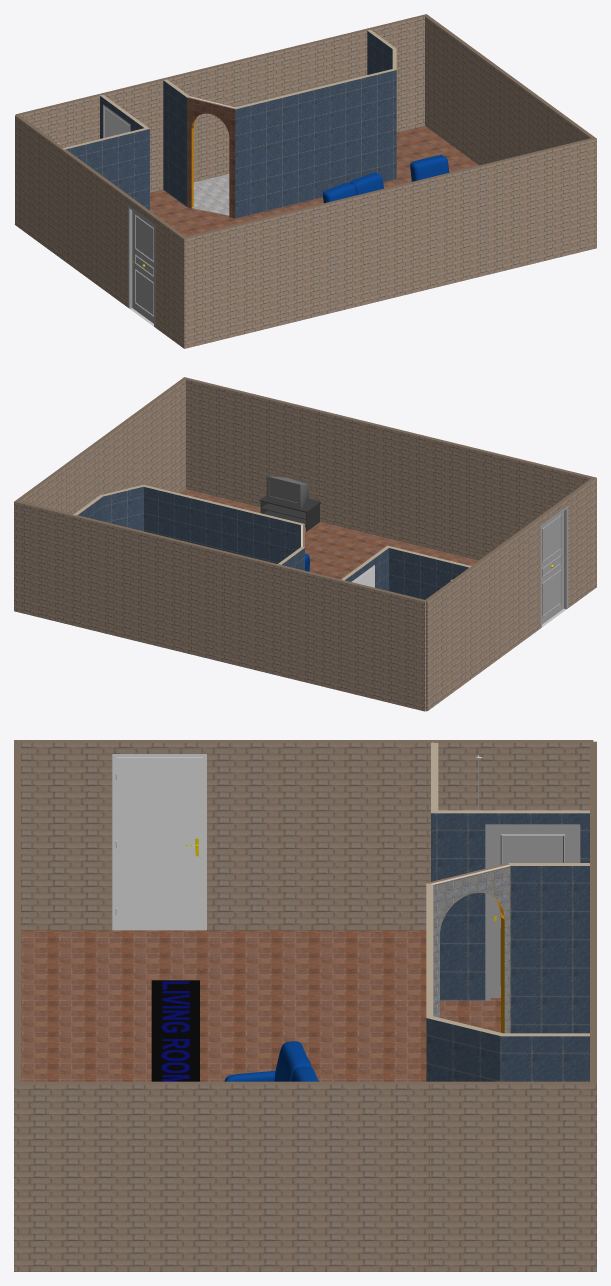
3 views of the same model, one above another, from view 1: azimuth 30°, elevation 25°; view 2: azimuth 150°, elevation 25°; view 3: azimuth 270°, elevation 25° (orthographic). The views are drawn at different scales.
Visible parts, largest first — view 1: wall_4_22, wall_1_5, wall_10_59, wall_5_28, wall_3_17, wall_2_11, room_13_74, wall_7_40, wall_8_46, sweethome3d_opening_on_hinge_1_doorOutside_104, wall_9_53, room_14_75 (+10 smaller); view 2: wall_1_4, wall_4_23, wall_5_28, wall_3_17, wall_10_58, room_13_74, wall_7_41, sweethome3d_opening_on_hinge_1_doorOutside_104, wall_11_64, wall_2_11, TV_86, frameOutside_93 (+5 smaller); view 3: wall_3_16, wall_5_29, room_13_74, wall_2_10, sweethome3d_opening_on_hinge_1_door_101, wall_8_47, wall_6_34, label_16_78, wall_11_65, wall_12_71, sweethome3d_opening_on_hinge_1_doorOutside_117, wall_9_52 (+11 smaller).
Part boxes in pixels (left/top/right/bottom): wall_4_22: left=184, top=139, right=596, bottom=348; wall_1_5: left=20, top=16, right=424, bottom=192; wall_10_59: left=235, top=70, right=396, bottom=218; wall_5_28: left=15, top=115, right=184, bottom=348; wall_3_17: left=472, top=51, right=590, bottom=165; wall_2_11: left=425, top=16, right=471, bottom=159; room_13_74: left=150, top=126, right=478, bottom=236; wall_7_40: left=66, top=129, right=149, bottom=210; wall_8_46: left=163, top=80, right=187, bottom=206; sweethome3d_opening_on_hinge_1_doorOutside_104: left=132, top=211, right=153, bottom=323; wall_9_53: left=187, top=98, right=235, bottom=218; room_14_75: left=192, top=174, right=229, bottom=215; wall_1_4: left=14, top=502, right=425, bottom=711; wall_4_23: left=186, top=379, right=590, bottom=560; wall_5_28: left=426, top=478, right=596, bottom=710; wall_3_17: left=66, top=379, right=185, bottom=514; wall_10_58: left=143, top=487, right=300, bottom=563; room_13_74: left=180, top=489, right=478, bottom=579; wall_7_41: left=389, top=548, right=468, bottom=599; sweethome3d_opening_on_hinge_1_doorOutside_104: left=542, top=511, right=563, bottom=624; wall_11_64: left=103, top=486, right=143, bottom=531; wall_2_11: left=20, top=467, right=66, bottom=512; TV_86: left=266, top=476, right=300, bottom=508; frameOutside_93: left=540, top=505, right=568, bottom=627; wall_3_16: left=14, top=1084, right=429, bottom=1271; wall_5_29: left=21, top=743, right=589, bottom=930; room_13_74: left=21, top=930, right=500, bottom=1081; wall_2_10: left=430, top=1084, right=596, bottom=1271; sweethome3d_opening_on_hinge_1_door_101: left=116, top=757, right=202, bottom=930; wall_8_47: left=510, top=866, right=589, bottom=1033; wall_6_34: left=431, top=813, right=589, bottom=1000; label_16_78: left=151, top=980, right=199, bottom=1081; wall_11_65: left=426, top=1018, right=500, bottom=1081; wall_12_71: left=500, top=1036, right=589, bottom=1081; sweethome3d_opening_on_hinge_1_doorOutside_117: left=490, top=829, right=574, bottom=997; wall_9_52: left=433, top=866, right=510, bottom=1033.
Bounding box in the file's own units: 874 × 222 × 625.
Materials: 18 (8 with a texture image).
